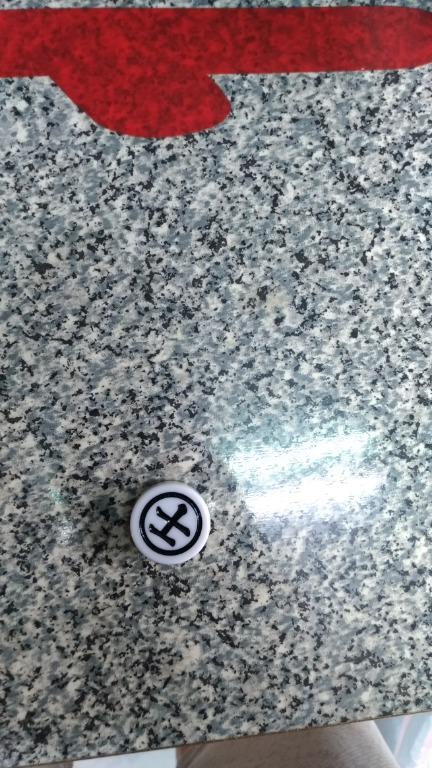b-advisor: (121, 473, 231, 581)
